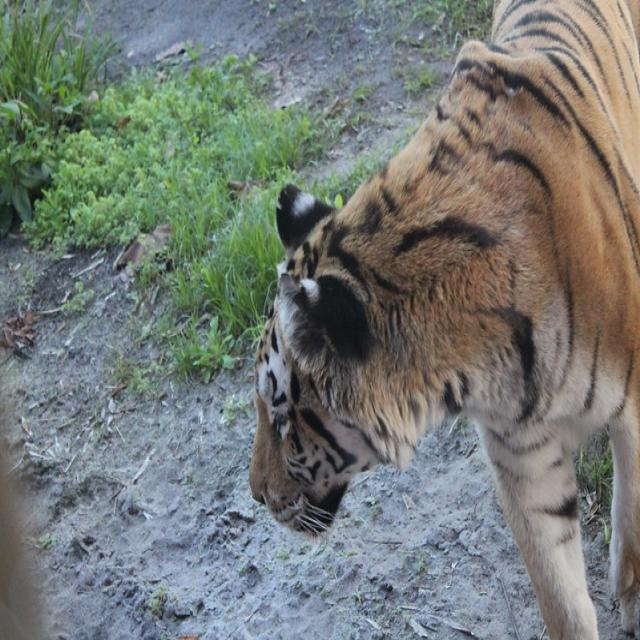Tiger: (245, 1, 638, 635)
